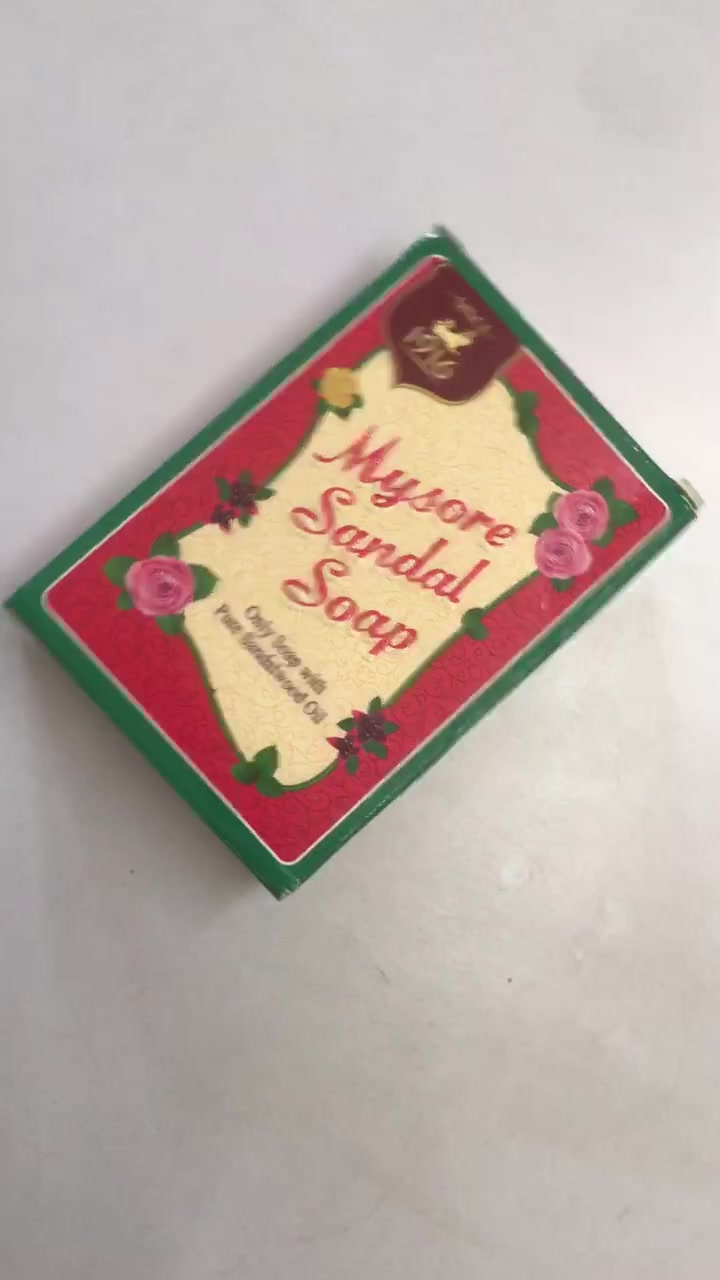mysore sandal soap: (10, 234, 699, 906)
